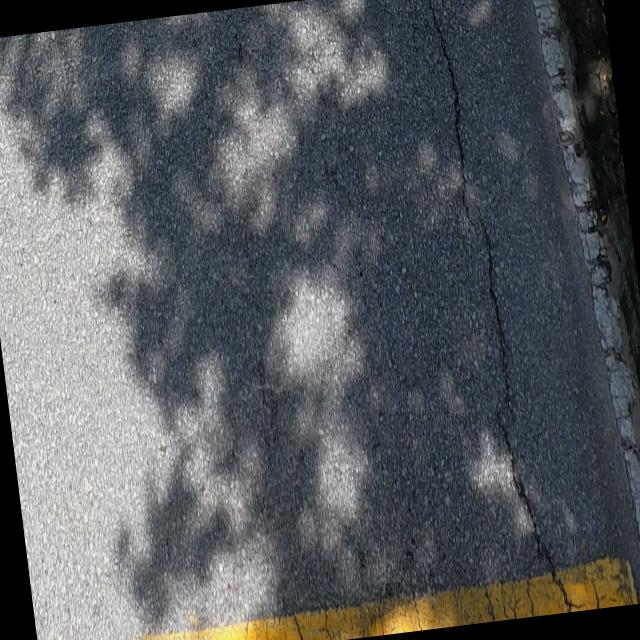Retak-Memanjang: (484, 203, 582, 613), (426, 0, 474, 222)
